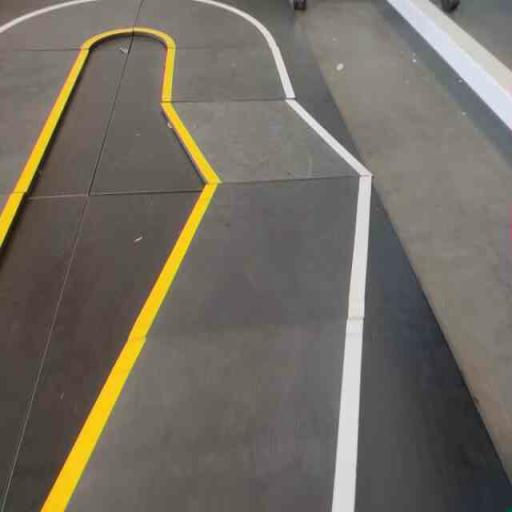crossright: (32, 316, 378, 511)
